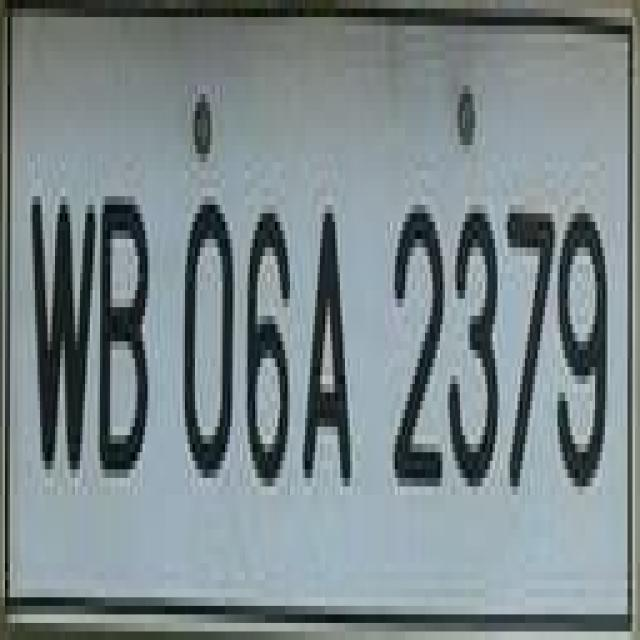license_plate: (0, 25, 617, 640)
